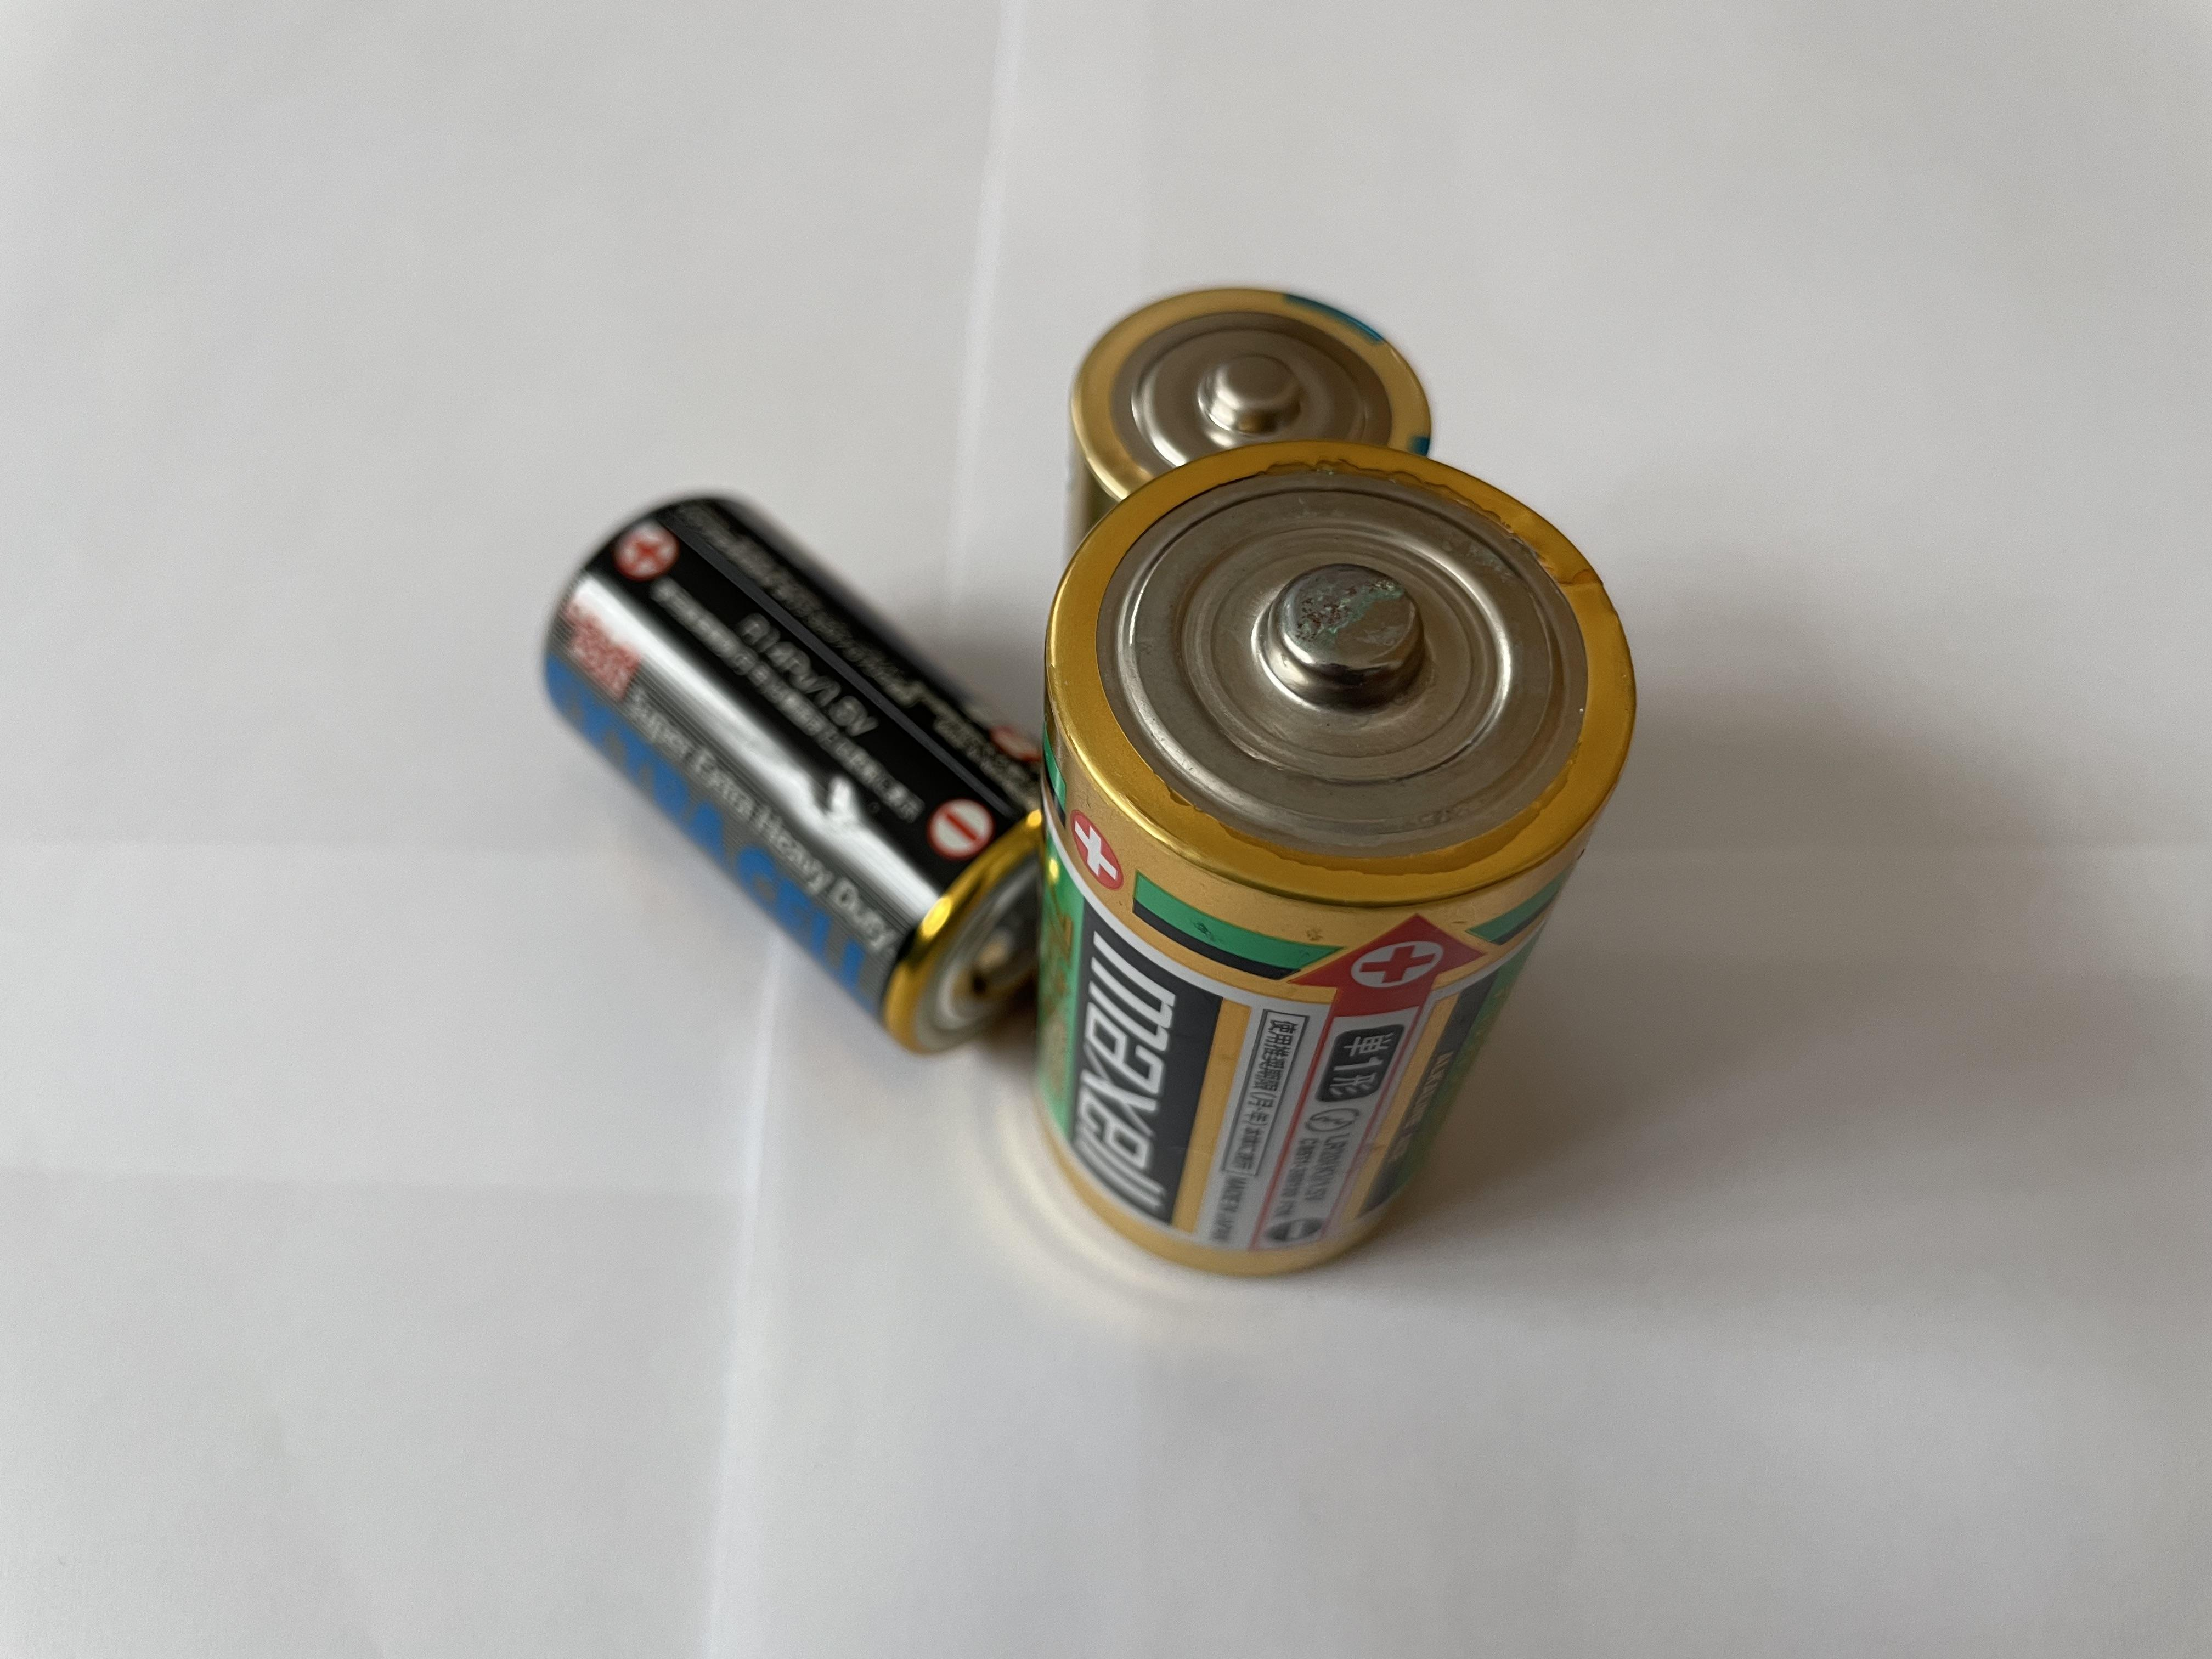Battery: (538, 493, 1049, 1053)
